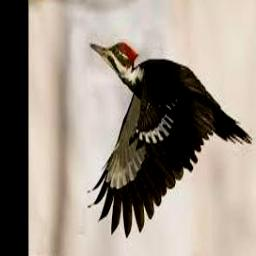Woodpecker: (87, 42, 252, 238)
